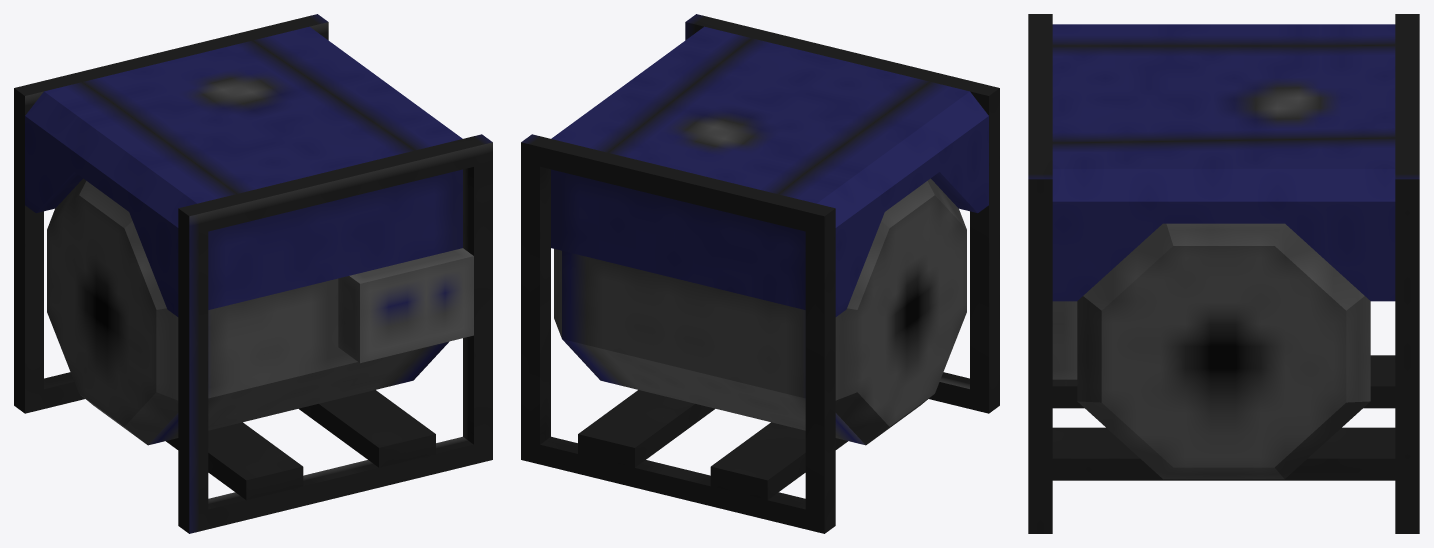
The model's file is advanced_liquid_compressor.obj.
The picture shows the model from 3 angles, left to right: view 1: azimuth 30°, elevation 25°; view 2: azimuth 150°, elevation 25°; view 3: azimuth 270°, elevation 25°; orthographic projection. The views are drawn at different scales.
Visible parts, largest first — view 1: Tank, Frame, Gen, Box; view 2: Tank, Frame, Gen; view 3: Tank, Gen, Frame, Box.
Part boxes in pixels (x1,y1,x2,y2): Tank: (25, 26, 462, 316); Frame: (14, 14, 492, 533); Gen: (47, 178, 449, 445); Box: (338, 248, 473, 363); Tank: (551, 26, 988, 316); Frame: (521, 14, 999, 533); Gen: (554, 178, 966, 445); Tank: (1052, 24, 1395, 301); Gen: (1077, 223, 1370, 479); Frame: (1028, 14, 1419, 533); Box: (1052, 301, 1077, 379).
Size of the model in its own units: 16 by 16 by 16.
